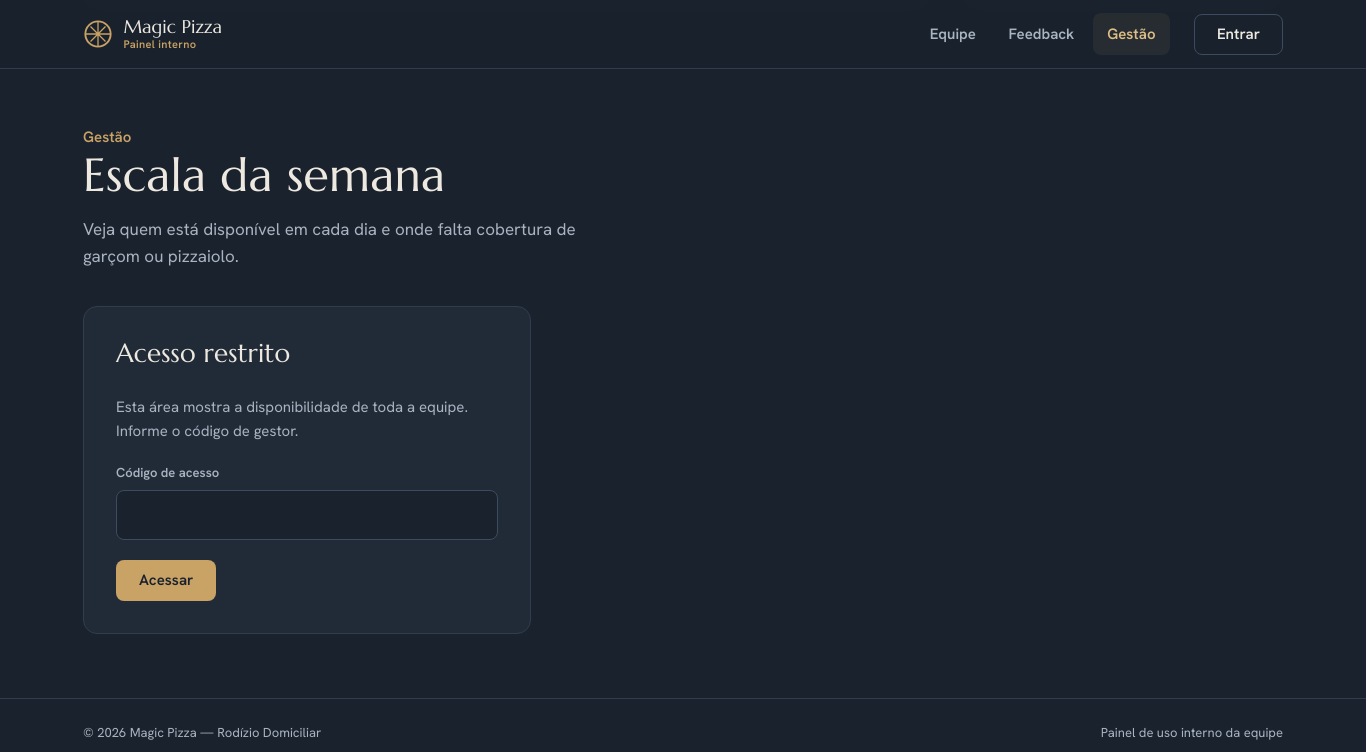
it: Aba Gestão › pede o código do gestor e recusa código errado sem mostrar a equipe
(page scrolled)
Type "errado" into the password field labelled "Código de acesso" at (307, 515), box [116,490,498,540]
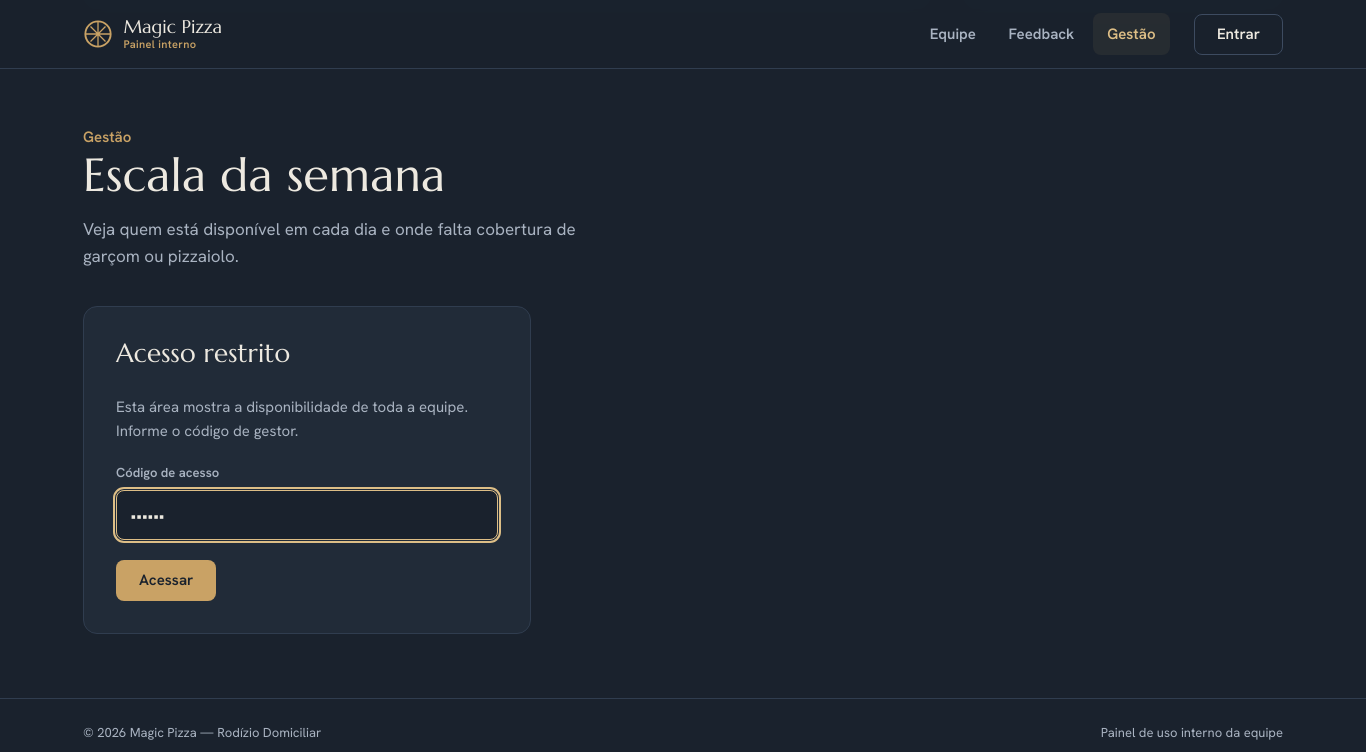
Click the button "Acessar" at (166, 581), box [116,560,216,601]
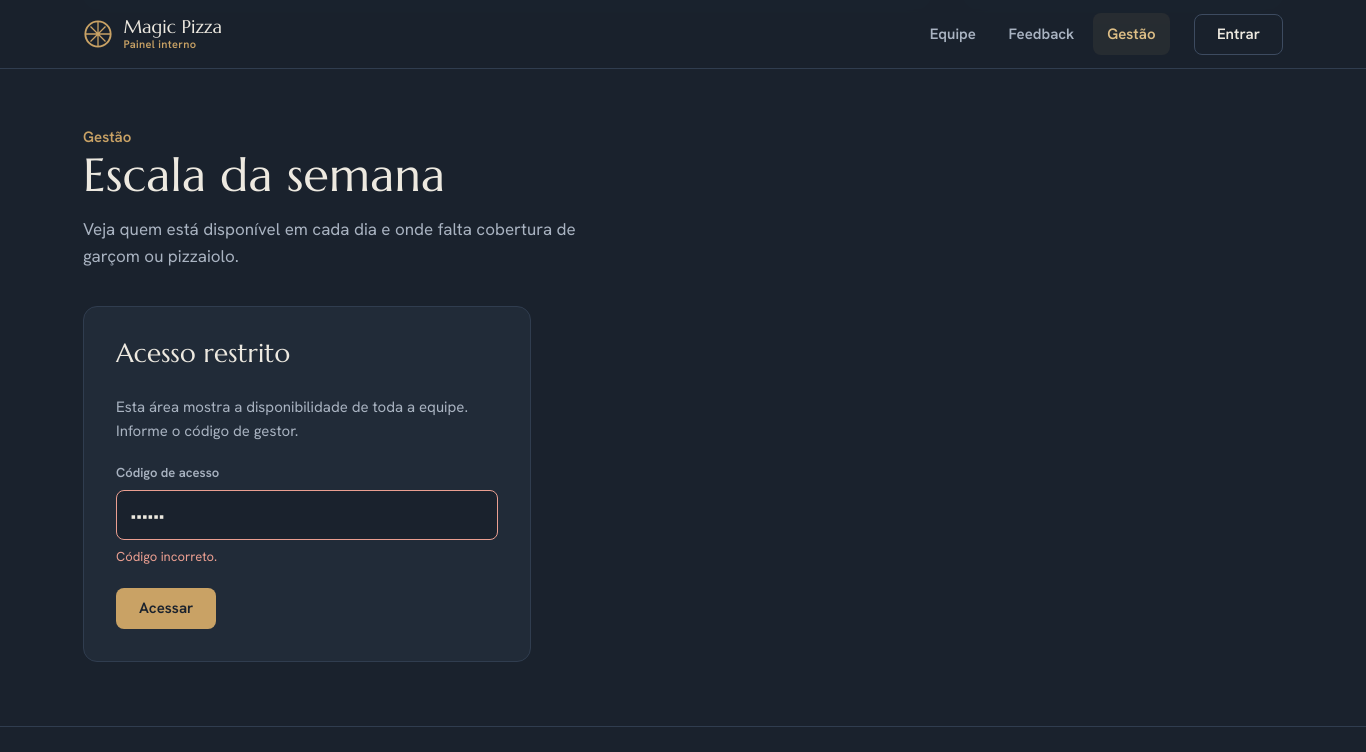
Now the text "Código incorreto." is shown, box [116,548,217,565]
Type "magic2026" into the password field labelled "Código de acesso" at (307, 515), box [116,490,498,540]
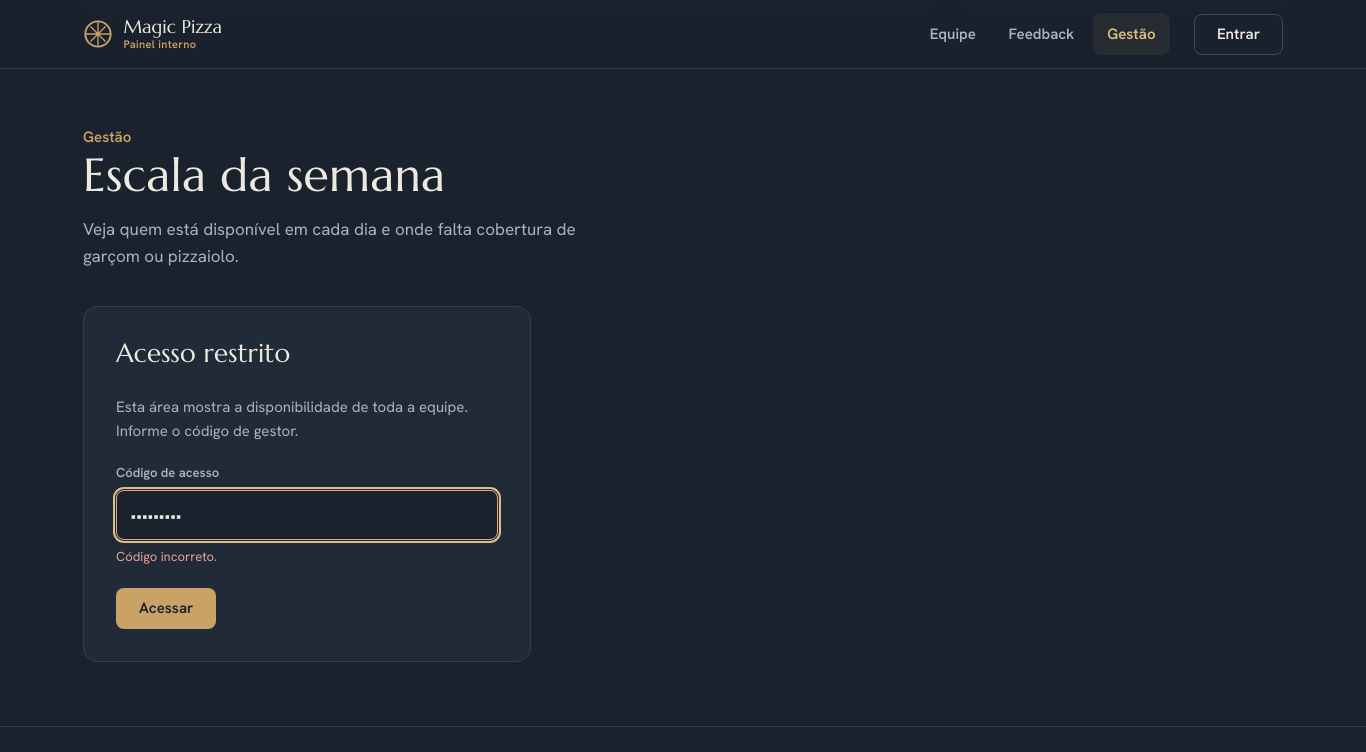
Click the button "Acessar" at (166, 608), box [116,588,216,628]
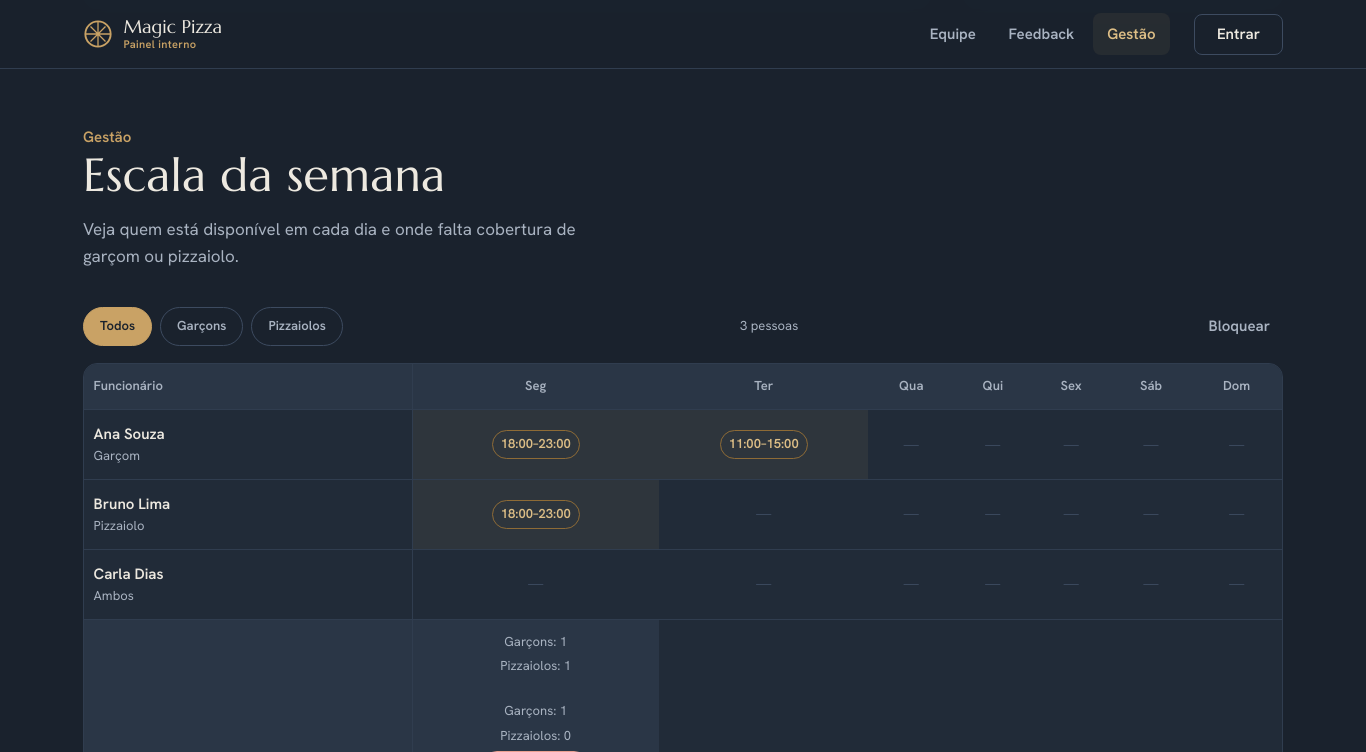
Click the button "Bloquear" at (1239, 327), box [1196,306,1283,347]
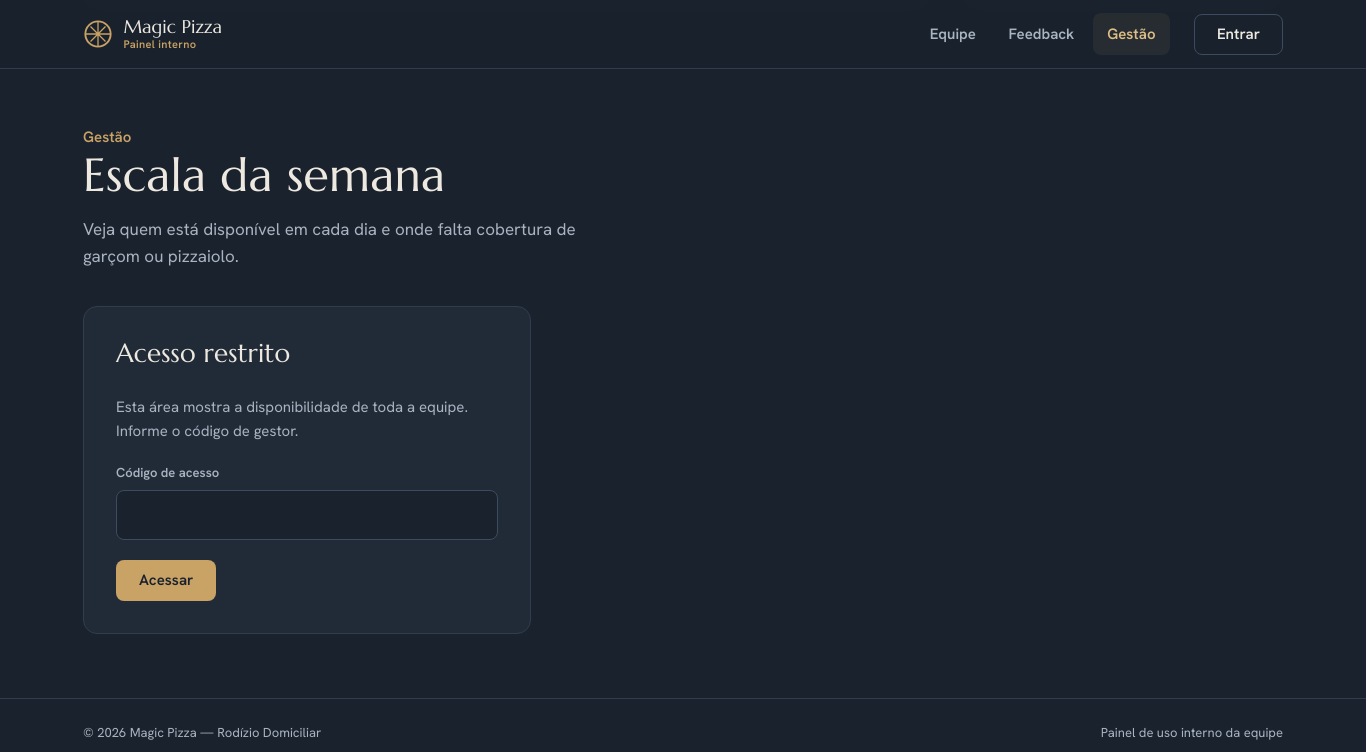
Now the table is gone
Now the password field labelled "Código de acesso" is shown, box [116,490,498,540]
